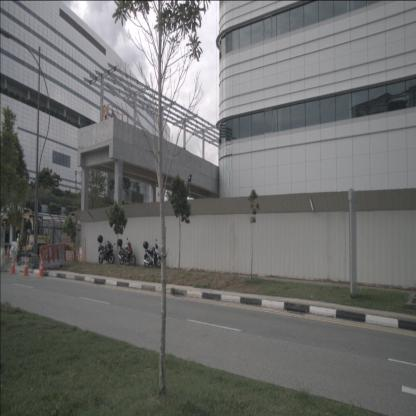barrier: (38, 244, 65, 271)
cone: (21, 256, 30, 276), (38, 257, 44, 278), (10, 256, 16, 274), (6, 244, 10, 258), (75, 248, 79, 262)
